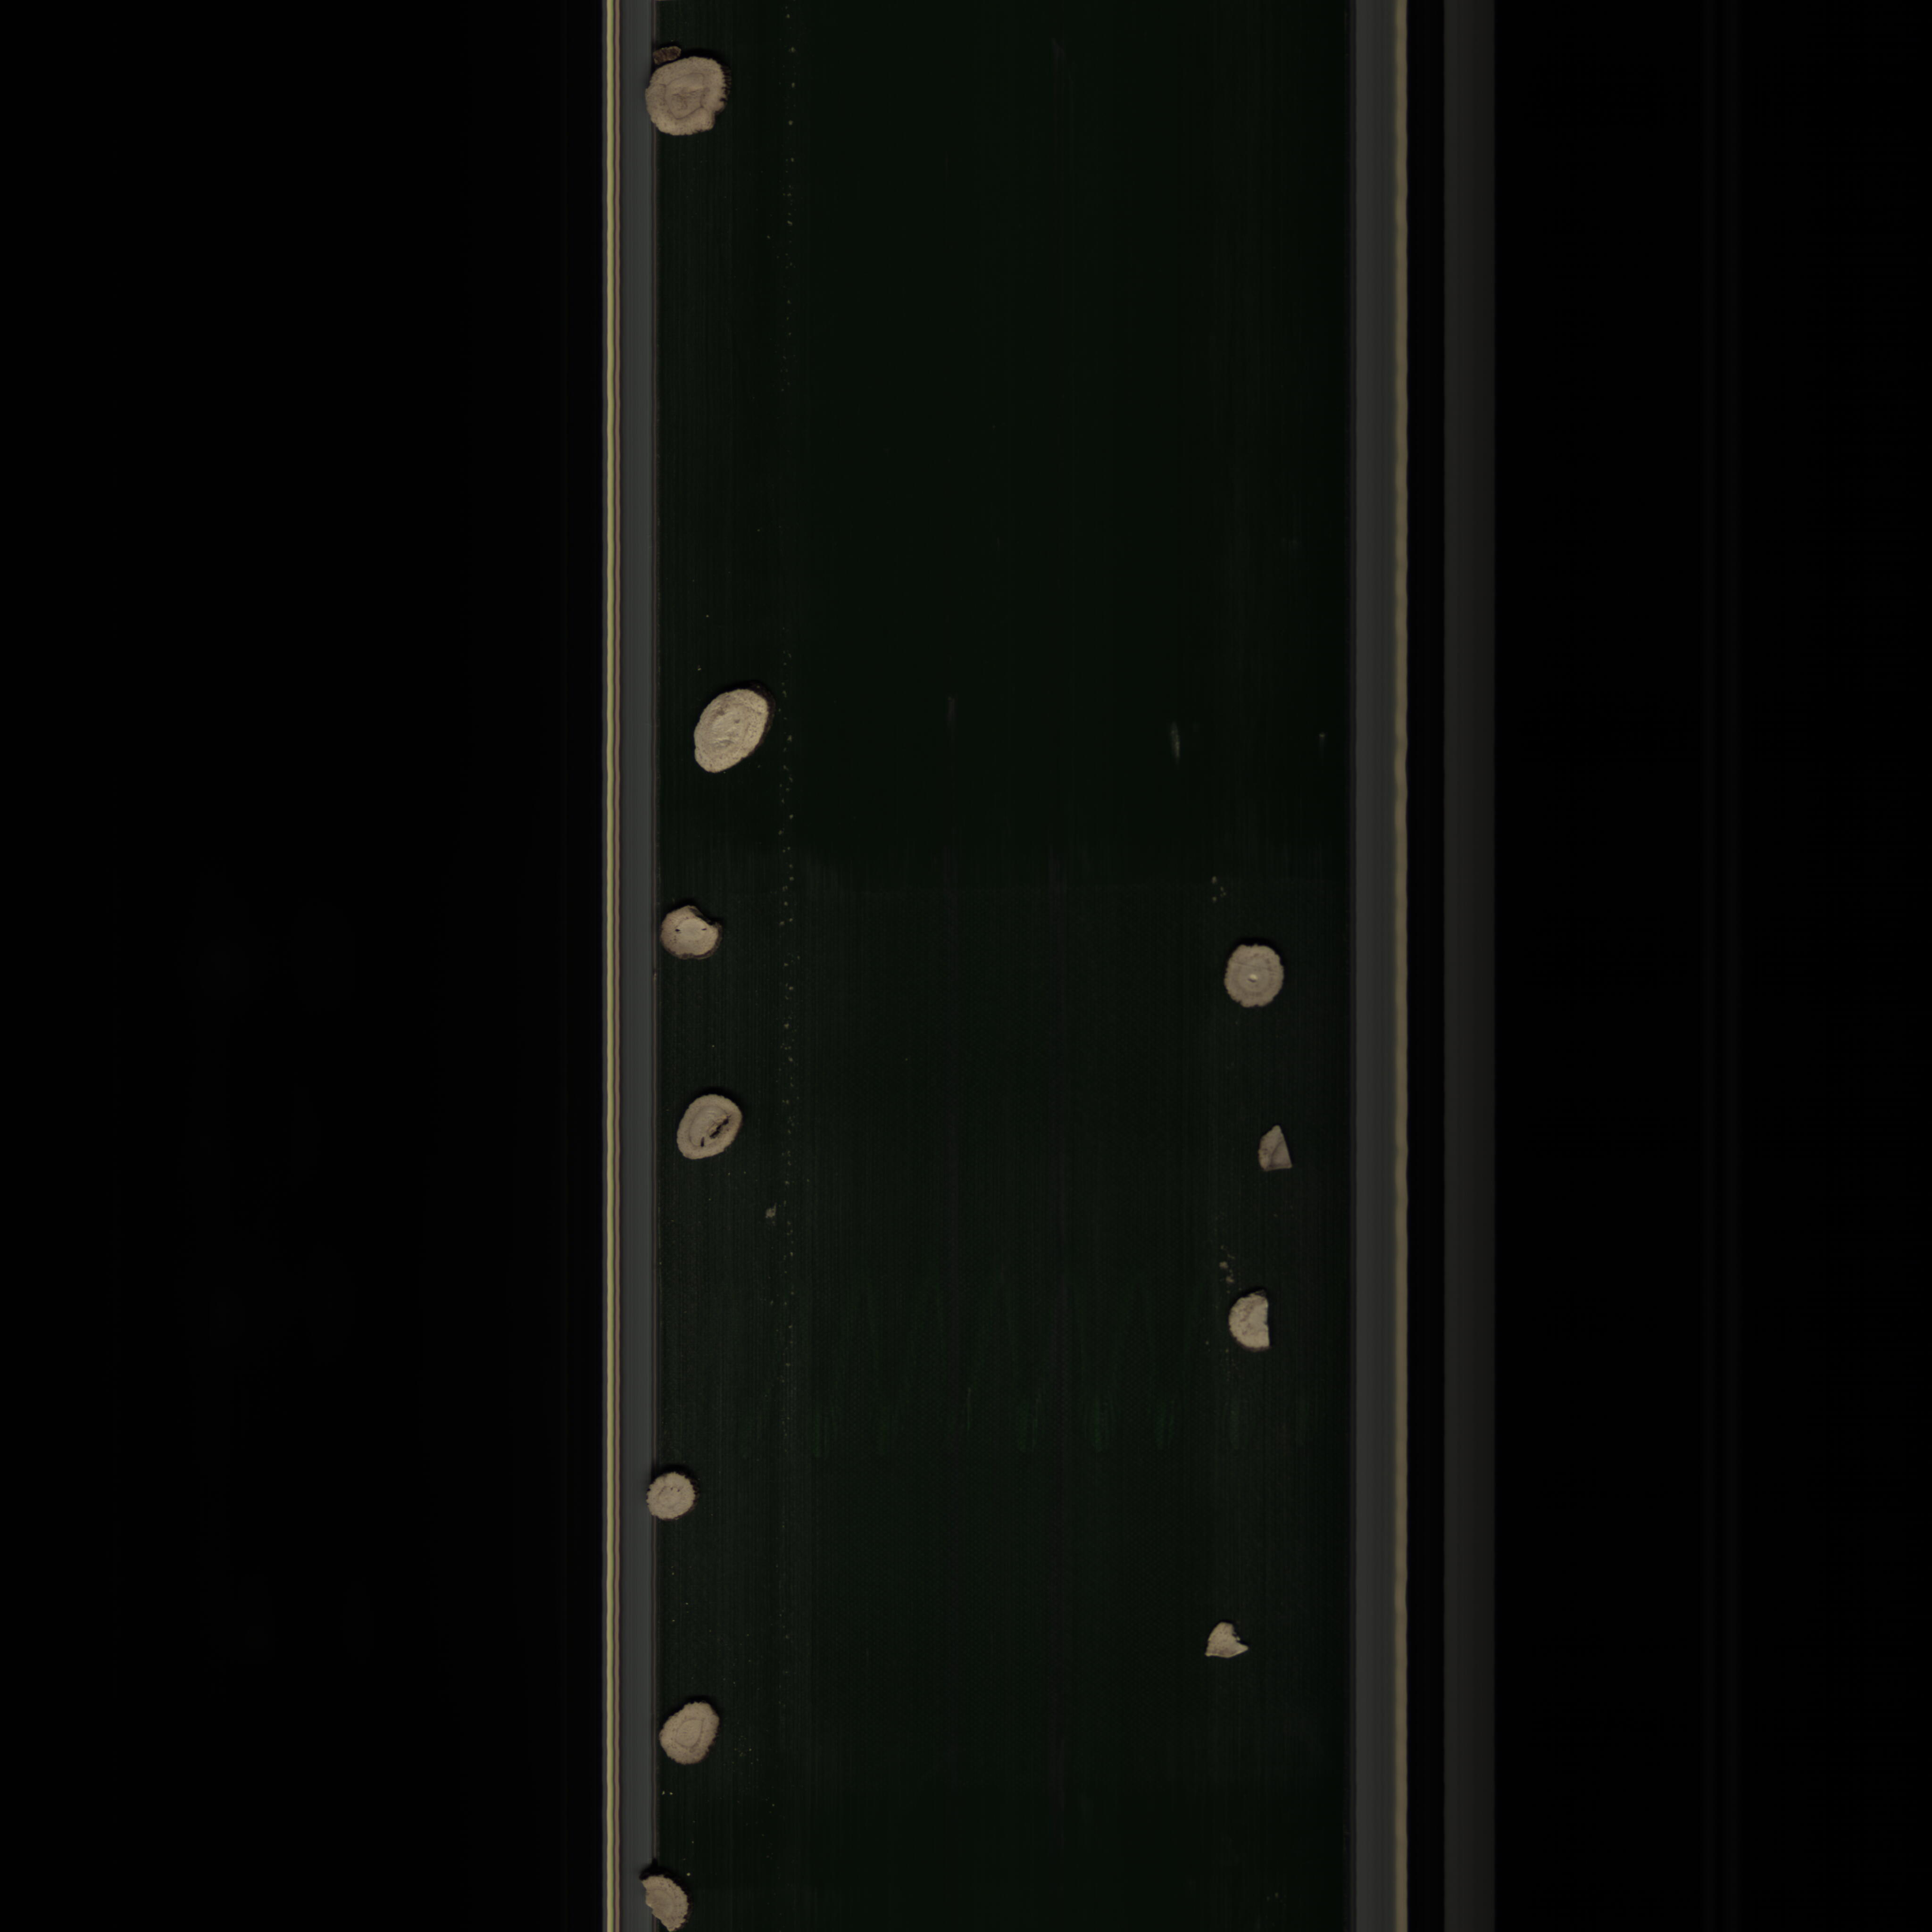debris: (1228, 1284, 1288, 1359), (656, 901, 727, 959), (1196, 1612, 1267, 1667), (633, 1867, 694, 1930), (1247, 1120, 1300, 1171)
hole: (672, 1088, 757, 1171)
moldy: (642, 53, 743, 140)
